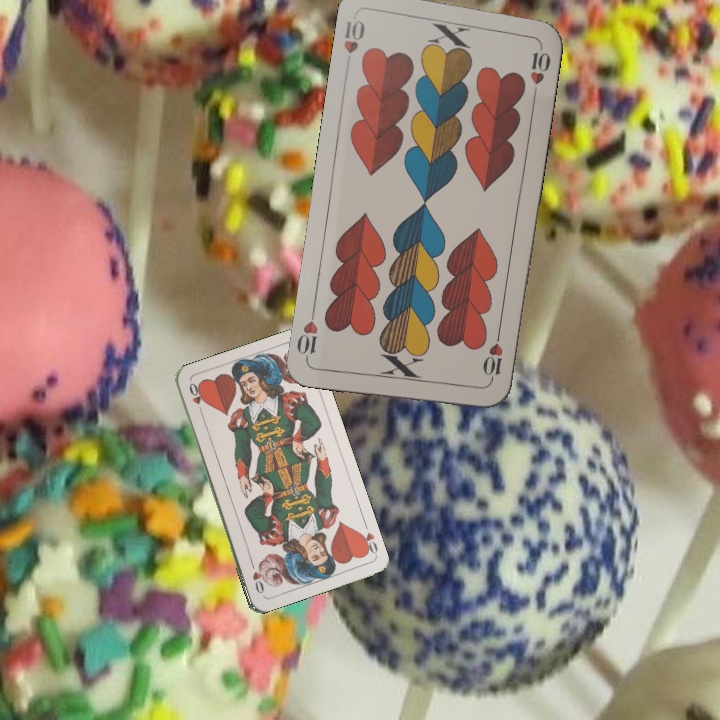H10: (479, 328, 506, 387), (339, 16, 368, 56)
HO: (355, 518, 380, 558), (185, 379, 206, 418)
